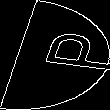P_W: (7, 31, 103, 79)
